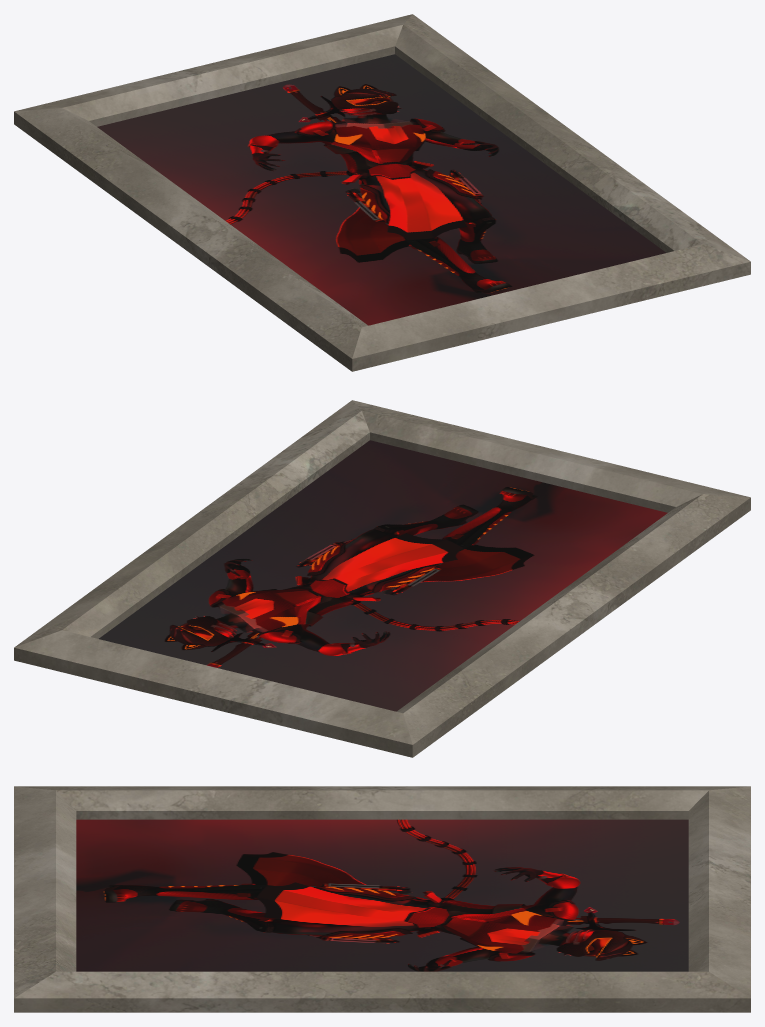
The model's file is Frame1.gltf.
The picture shows the model from 3 angles, top to bottom: view 1: azimuth 30°, elevation 25°; view 2: azimuth 150°, elevation 25°; view 3: azimuth 270°, elevation 25°; orthographic projection. The views are drawn at different scales.
Parts seen in each view (by area): view 1: Plane.001; view 2: Plane.001; view 3: Plane.001.
Boxes of the visible parts, x1,y1,x2,y2 form: Plane.001: (14, 14, 750, 371); Plane.001: (14, 400, 750, 757); Plane.001: (14, 786, 750, 1012).
Size of the model in its own units: 6.79 by 0.3807 by 9.98.
Materials: 2 (2 with a texture image).
